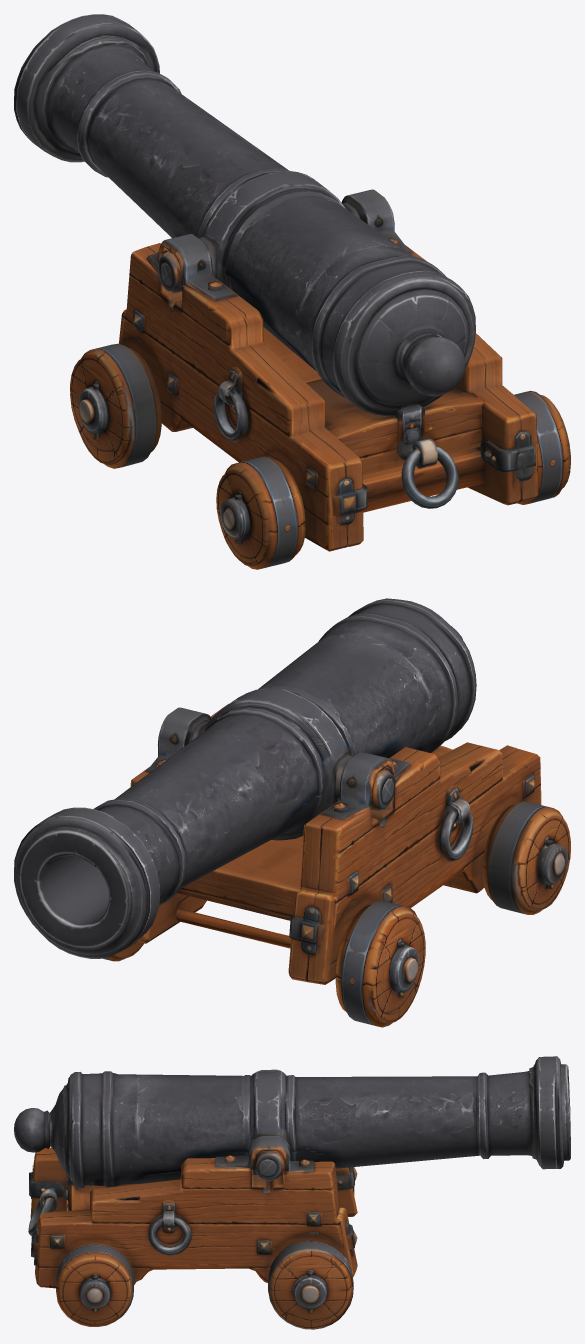
The model's file is cannon.glb.
The picture shows the model from 3 angles, top to bottom: view 1: azimuth 30°, elevation 25°; view 2: azimuth 150°, elevation 25°; view 3: azimuth 270°, elevation 25°; orthographic projection. The views are drawn at different scales.
Parts seen in each view (by area): view 1: tripo_533a71ab_0779_40a0_95b7_169e0693f3b2.065, tripo_533a71ab_0779_40a0_95b7_169e0693f3b2.030, tripo_533a71ab_0779_40a0_95b7_169e0693f3b2.035, tripo_533a71ab_0779_40a0_95b7_169e0693f3b2.016, tripo_533a71ab_0779_40a0_95b7_169e0693f3b2.047, tripo_533a71ab_0779_40a0_95b7_169e0693f3b2.004, tripo_533a71ab_0779_40a0_95b7_169e0693f3b2.054, tripo_533a71ab_0779_40a0_95b7_169e0693f3b2.017, tripo_533a71ab_0779_40a0_95b7_169e0693f3b2.039, tripo_533a71ab_0779_40a0_95b7_169e0693f3b2.021, tripo_533a71ab_0779_40a0_95b7_169e0693f3b2.010, tripo_533a71ab_0779_40a0_95b7_169e0693f3b2.020 (+5 smaller); view 2: tripo_533a71ab_0779_40a0_95b7_169e0693f3b2.065, tripo_533a71ab_0779_40a0_95b7_169e0693f3b2.030, tripo_533a71ab_0779_40a0_95b7_169e0693f3b2.035, tripo_533a71ab_0779_40a0_95b7_169e0693f3b2.047, tripo_533a71ab_0779_40a0_95b7_169e0693f3b2.054, tripo_533a71ab_0779_40a0_95b7_169e0693f3b2.039, tripo_533a71ab_0779_40a0_95b7_169e0693f3b2.010, tripo_533a71ab_0779_40a0_95b7_169e0693f3b2.005, tripo_533a71ab_0779_40a0_95b7_169e0693f3b2.004, tripo_533a71ab_0779_40a0_95b7_169e0693f3b2.041, tripo_533a71ab_0779_40a0_95b7_169e0693f3b2.037, tripo_533a71ab_0779_40a0_95b7_169e0693f3b2.049 (+2 smaller); view 3: tripo_533a71ab_0779_40a0_95b7_169e0693f3b2.065, tripo_533a71ab_0779_40a0_95b7_169e0693f3b2.004, tripo_533a71ab_0779_40a0_95b7_169e0693f3b2.002, tripo_533a71ab_0779_40a0_95b7_169e0693f3b2.017, tripo_533a71ab_0779_40a0_95b7_169e0693f3b2.030, tripo_533a71ab_0779_40a0_95b7_169e0693f3b2.010, tripo_533a71ab_0779_40a0_95b7_169e0693f3b2, tripo_533a71ab_0779_40a0_95b7_169e0693f3b2.014, tripo_533a71ab_0779_40a0_95b7_169e0693f3b2.012, tripo_533a71ab_0779_40a0_95b7_169e0693f3b2.016, tripo_533a71ab_0779_40a0_95b7_169e0693f3b2.044, tripo_533a71ab_0779_40a0_95b7_169e0693f3b2.013 (+1 smaller).
Part boxes in pixels (x1=…): tripo_533a71ab_0779_40a0_95b7_169e0693f3b2.065: x1=14, y1=14, x2=475, y2=415; tripo_533a71ab_0779_40a0_95b7_169e0693f3b2.030: x1=119, y1=243, x2=363, y2=551; tripo_533a71ab_0779_40a0_95b7_169e0693f3b2.035: x1=70, y1=343, x2=161, y2=468; tripo_533a71ab_0779_40a0_95b7_169e0693f3b2.016: x1=306, y1=379, x2=483, y2=475; tripo_533a71ab_0779_40a0_95b7_169e0693f3b2.047: x1=216, y1=456, x2=305, y2=569; tripo_533a71ab_0779_40a0_95b7_169e0693f3b2.004: x1=405, y1=245, x2=538, y2=505; tripo_533a71ab_0779_40a0_95b7_169e0693f3b2.054: x1=263, y1=327, x2=484, y2=512; tripo_533a71ab_0779_40a0_95b7_169e0693f3b2.017: x1=514, y1=390, x2=570, y2=504; tripo_533a71ab_0779_40a0_95b7_169e0693f3b2.039: x1=146, y1=234, x2=236, y2=301; tripo_533a71ab_0779_40a0_95b7_169e0693f3b2.021: x1=401, y1=446, x2=458, y2=508; tripo_533a71ab_0779_40a0_95b7_169e0693f3b2.010: x1=341, y1=189, x2=411, y2=253; tripo_533a71ab_0779_40a0_95b7_169e0693f3b2.020: x1=480, y1=440, x2=535, y2=471; tripo_533a71ab_0779_40a0_95b7_169e0693f3b2.065: x1=14, y1=598, x2=476, y2=958; tripo_533a71ab_0779_40a0_95b7_169e0693f3b2.030: x1=288, y1=742, x2=541, y2=984; tripo_533a71ab_0779_40a0_95b7_169e0693f3b2.035: x1=335, y1=900, x2=425, y2=1027; tripo_533a71ab_0779_40a0_95b7_169e0693f3b2.047: x1=482, y1=801, x2=570, y2=914; tripo_533a71ab_0779_40a0_95b7_169e0693f3b2.054: x1=176, y1=836, x2=303, y2=920; tripo_533a71ab_0779_40a0_95b7_169e0693f3b2.039: x1=322, y1=752, x2=411, y2=820; tripo_533a71ab_0779_40a0_95b7_169e0693f3b2.010: x1=146, y1=707, x2=213, y2=772; tripo_533a71ab_0779_40a0_95b7_169e0693f3b2.005: x1=175, y1=909, x2=291, y2=948; tripo_533a71ab_0779_40a0_95b7_169e0693f3b2.004: x1=130, y1=704, x2=228, y2=943; tripo_533a71ab_0779_40a0_95b7_169e0693f3b2.041: x1=438, y1=807, x2=473, y2=861; tripo_533a71ab_0779_40a0_95b7_169e0693f3b2.037: x1=389, y1=945, x2=418, y2=992; tripo_533a71ab_0779_40a0_95b7_169e0693f3b2.049: x1=537, y1=843, x2=567, y2=884; tripo_533a71ab_0779_40a0_95b7_169e0693f3b2.065: x1=14, y1=1056, x2=570, y2=1187; tripo_533a71ab_0779_40a0_95b7_169e0693f3b2.004: x1=35, y1=1158, x2=357, y2=1288; tripo_533a71ab_0779_40a0_95b7_169e0693f3b2.002: x1=268, y1=1240, x2=353, y2=1329; tripo_533a71ab_0779_40a0_95b7_169e0693f3b2.017: x1=56, y1=1243, x2=134, y2=1326; tripo_533a71ab_0779_40a0_95b7_169e0693f3b2.030: x1=30, y1=1147, x2=357, y2=1218; tripo_533a71ab_0779_40a0_95b7_169e0693f3b2.010: x1=215, y1=1135, x2=313, y2=1174; tripo_533a71ab_0779_40a0_95b7_169e0693f3b2: x1=293, y1=1276, x2=326, y2=1309; tripo_533a71ab_0779_40a0_95b7_169e0693f3b2.014: x1=148, y1=1216, x2=191, y2=1255; tripo_533a71ab_0779_40a0_95b7_169e0693f3b2.012: x1=80, y1=1278, x2=110, y2=1308; tripo_533a71ab_0779_40a0_95b7_169e0693f3b2.016: x1=71, y1=1184, x2=137, y2=1210; tripo_533a71ab_0779_40a0_95b7_169e0693f3b2.044: x1=29, y1=1172, x2=64, y2=1198; tripo_533a71ab_0779_40a0_95b7_169e0693f3b2.013: x1=161, y1=1200, x2=175, y2=1233.
Bounding box in the file's own units: 1.02 × 0.8564 × 2.
Materials: 1 (1 with a texture image).
